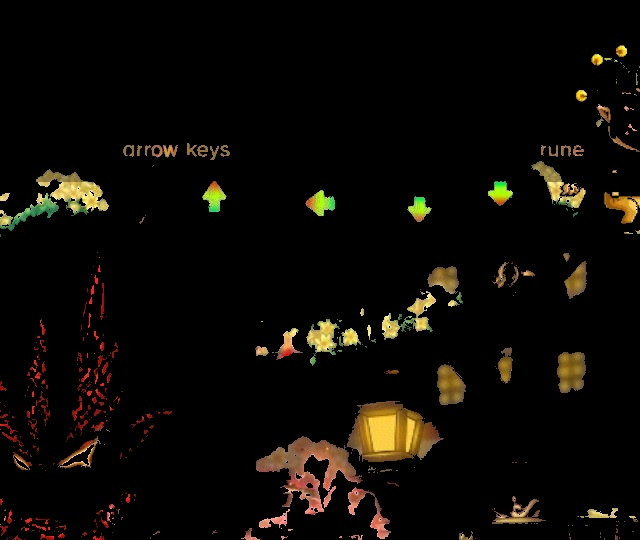down: (400, 189, 438, 230), (483, 177, 518, 211)
left: (299, 182, 344, 223)
up: (195, 175, 235, 221)
